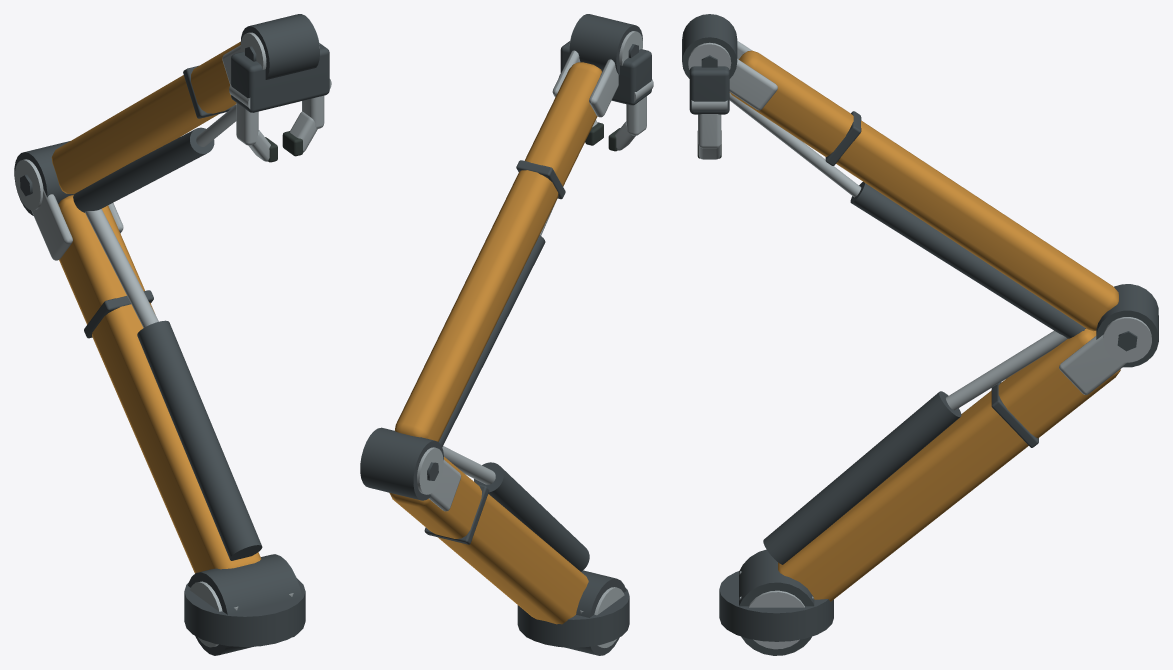
File: manipulador.glb
3 views of the same model, side by side, from view 1: azimuth 30°, elevation 25°; view 2: azimuth 150°, elevation 25°; view 3: azimuth 270°, elevation 25° (orthographic). The views are drawn at different scales.
Visible parts, largest first — view 1: Hombro_piezas, Codo_piezas, Muneca_piezas, Base_atornillada_piezas, Dedo_D_piezas, Dedo_I_piezas; view 2: Codo_piezas, Hombro_piezas, Muneca_piezas, Base_atornillada_piezas, Dedo_I_piezas; view 3: Hombro_piezas, Codo_piezas, Muneca_piezas, Base_atornillada_piezas, Dedo_D_piezas.
Part boxes in pixels (x1=…): Hombro_piezas: x1=31, y1=189, x2=301, y2=655; Codo_piezas: x1=14, y1=42, x2=240, y2=215; Muneca_piezas: x1=231, y1=14, x2=329, y2=112; Base_atornillada_piezas: x1=184, y1=578, x2=305, y2=646; Dedo_D_piezas: x1=282, y1=79, x2=331, y2=156; Dedo_I_piezas: x1=229, y1=84, x2=277, y2=162; Codo_piezas: x1=360, y1=50, x2=618, y2=500; Hombro_piezas: x1=388, y1=446, x2=626, y2=655; Muneca_piezas: x1=560, y1=14, x2=651, y2=105; Base_atornillada_piezas: x1=517, y1=588, x2=629, y2=647; Dedo_I_piezas: x1=608, y1=79, x2=653, y2=151; Hombro_piezas: x1=739, y1=328, x2=1126, y2=655; Codo_piezas: x1=729, y1=40, x2=1158, y2=367; Muneca_piezas: x1=682, y1=14, x2=737, y2=114; Base_atornillada_piezas: x1=719, y1=571, x2=833, y2=641; Dedo_D_piezas: x1=691, y1=100, x2=727, y2=159.
Bounding box in the file's own units: 0.4 × 2.36 × 1.66.
